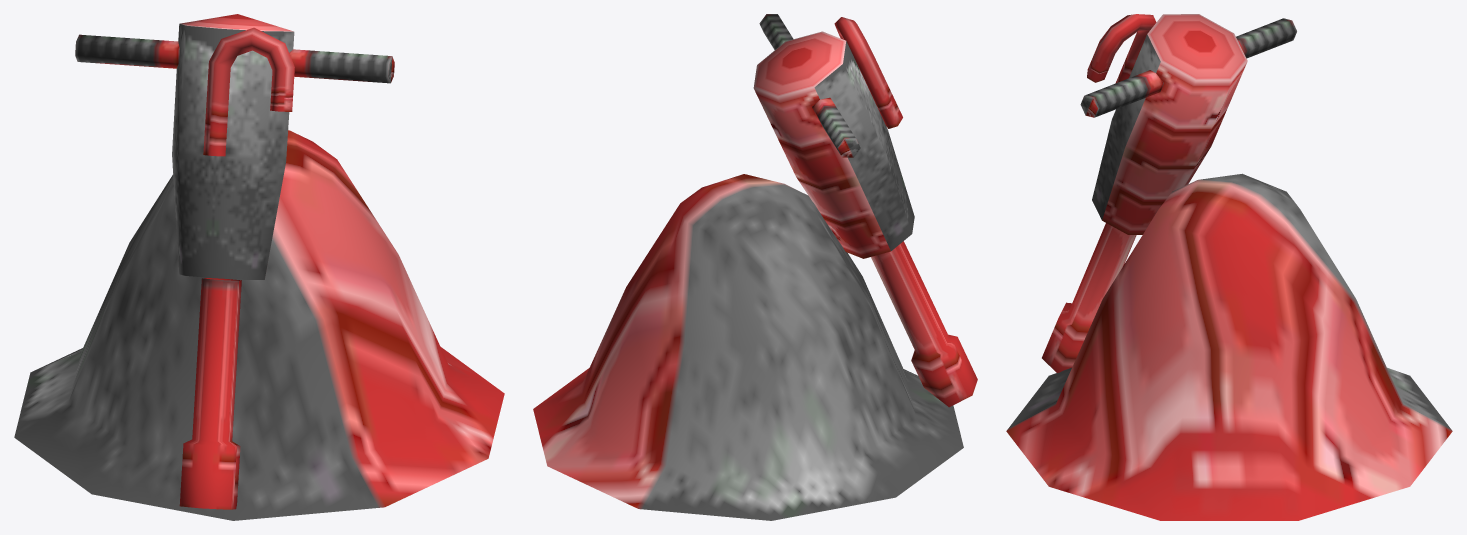
Rendered from int_csx_jack.dae.
3 views of the same model, side by side, from view 1: azimuth 30°, elevation 25°; view 2: azimuth 150°, elevation 25°; view 3: azimuth 270°, elevation 25° (orthographic). The views are drawn at different scales.
Parts seen in each view (by area): view 1: int_csx_jack; view 2: int_csx_jack; view 3: int_csx_jack.
Part boxes in pixels (x1,y1,x2,y2): int_csx_jack: (14, 14, 504, 520); int_csx_jack: (533, 14, 977, 520); int_csx_jack: (1006, 14, 1452, 520).
Size of the model in its own units: 30.35 by 30.97 by 31.91.
Materials: 1 (1 with a texture image).
